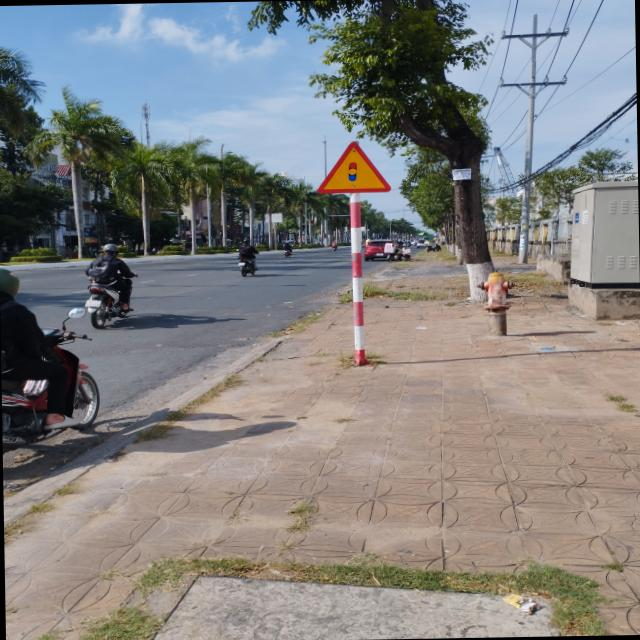Duong_Co_Go_Giam_Toc: (316, 140, 392, 193)
